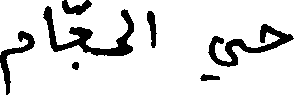ا: (42, 4, 55, 52), (145, 8, 156, 48)
ج: (62, 0, 90, 70)
ح: (259, 22, 292, 53)
ل: (106, 35, 135, 59), (114, 6, 133, 35)
م: (0, 28, 33, 93)
ي: (200, 33, 241, 80)
